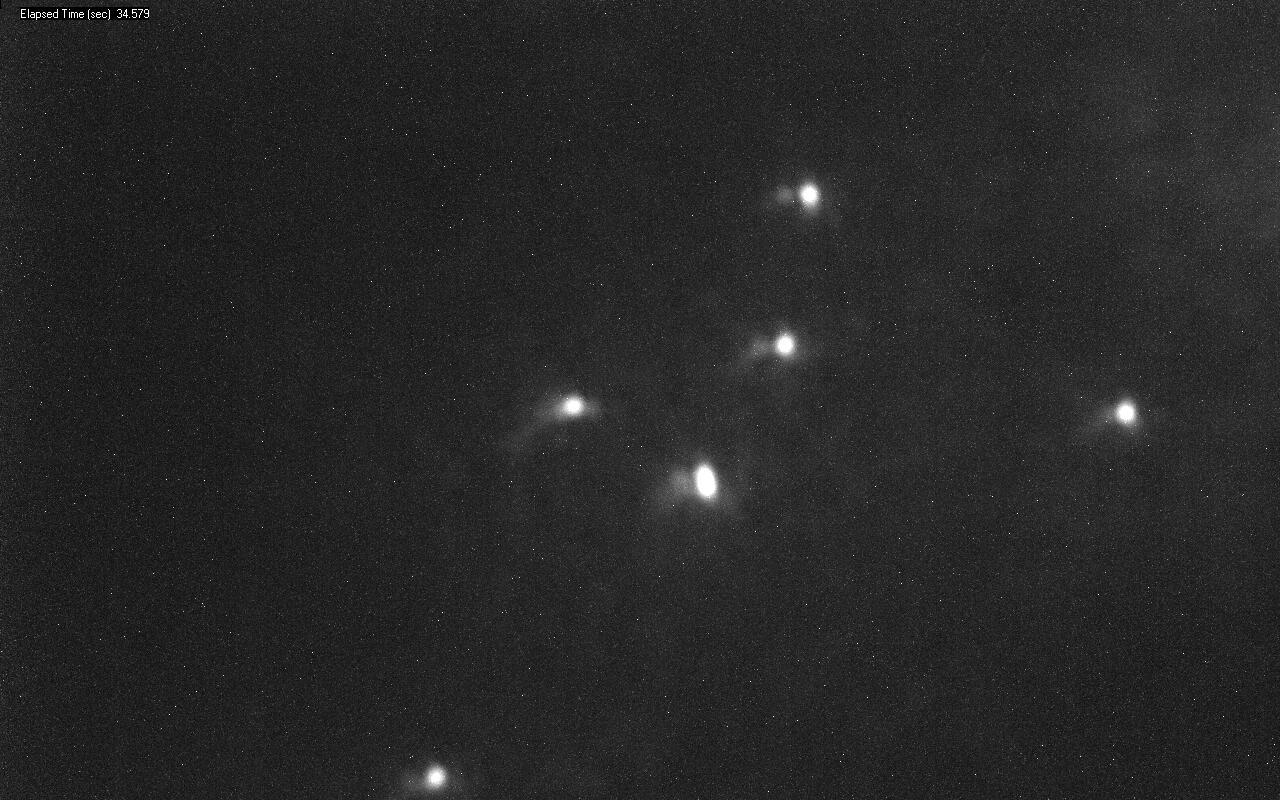Bead: (420, 764, 456, 795), (555, 393, 591, 419), (693, 463, 718, 499), (769, 330, 796, 359), (794, 183, 820, 209), (1116, 400, 1137, 426)
